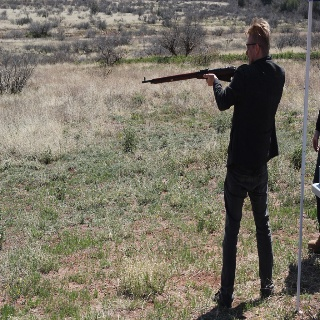rifle: (142, 65, 237, 86)
